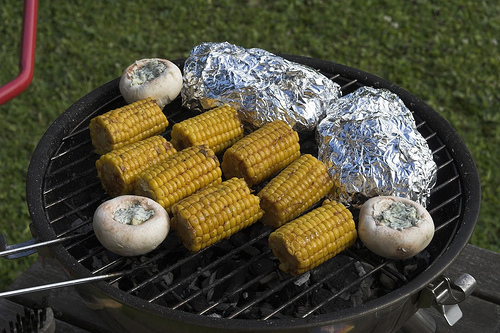corn: (170, 177, 265, 251), (270, 198, 359, 274), (257, 152, 333, 224)
